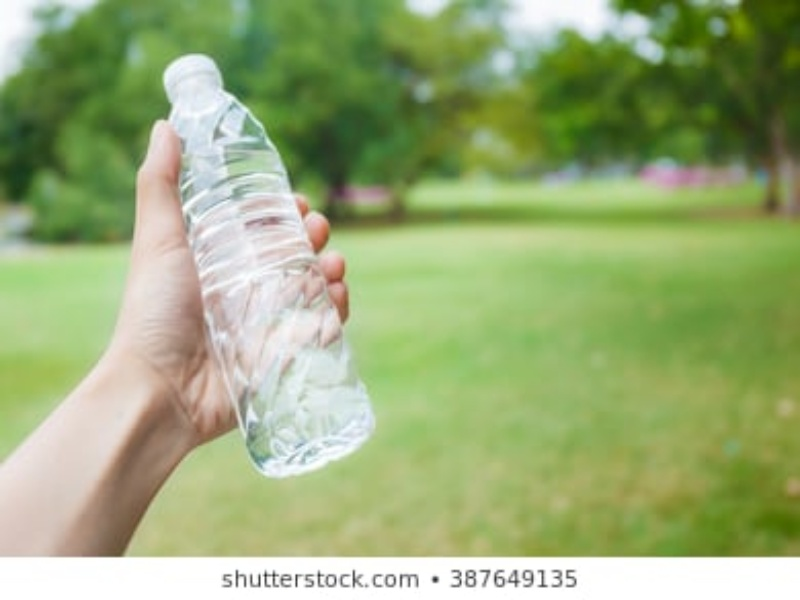plastic-bottle: (160, 53, 380, 475)
